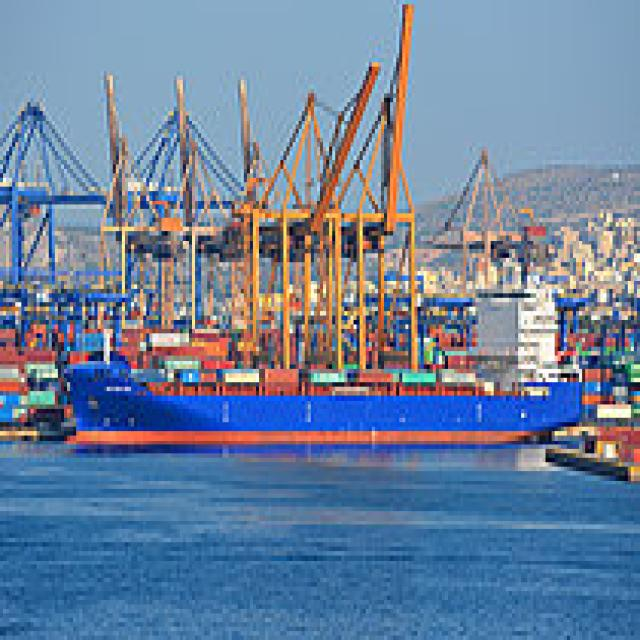Cargo: (58, 266, 582, 444)
